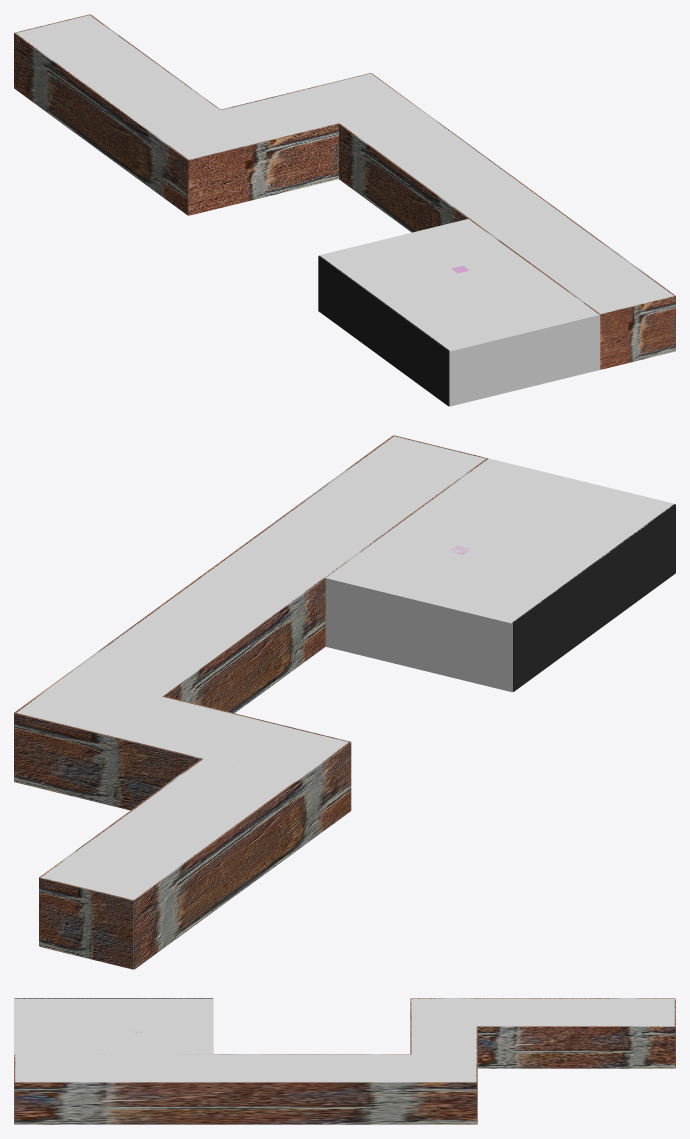
The model's file is AulaPasillo123.fbx.
3 views of the same model, one above another, from view 1: azimuth 30°, elevation 25°; view 2: azimuth 150°, elevation 25°; view 3: azimuth 270°, elevation 25° (orthographic). The views are drawn at different scales.
Parts seen in each view (by area): view 1: Plane.008, Plane.001, Cube.011, Plane.010, Plane.009, Cube.003, Cube.008, Cube.001, Cube.007, Cube.014, Cube.010; view 2: Plane.008, Plane.001, Cube.011, Plane.009, Plane.010, Cube.002, Cube.001, Cube.009, Cube.007, Cube.013, Cube.010; view 3: Cube.010, Plane.008, Plane.001, Cube.012, Plane.010, Plane.009, Cube.011.
Boxes of the visible parts, x1=… form: Plane.008: x1=340, y1=105, x2=673, y2=313; Plane.001: x1=320, y1=219, x2=598, y2=350; Cube.011: x1=14, y1=33, x2=188, y2=215; Plane.010: x1=15, y1=15, x2=219, y2=128; Plane.009: x1=146, y1=73, x2=413, y2=159; Cube.003: x1=449, y1=314, x2=600, y2=406; Cube.008: x1=188, y1=123, x2=339, y2=215; Cube.001: x1=318, y1=255, x2=449, y2=406; Cube.007: x1=339, y1=123, x2=469, y2=232; Cube.014: x1=600, y1=296, x2=675, y2=369; Cube.010: x1=371, y1=73, x2=675, y2=350; Plane.008: x1=69, y1=436, x2=485, y2=696; Plane.001: x1=326, y1=459, x2=673, y2=622; Cube.011: x1=133, y1=742, x2=351, y2=969; Plane.009: x1=17, y1=673, x2=348, y2=781; Plane.010: x1=40, y1=759, x2=294, y2=899; Cube.002: x1=325, y1=577, x2=512, y2=691; Cube.001: x1=512, y1=504, x2=675, y2=691; Cube.009: x1=14, y1=712, x2=202, y2=810; Cube.007: x1=164, y1=577, x2=325, y2=713; Cube.013: x1=39, y1=877, x2=133, y2=969; Cube.010: x1=14, y1=435, x2=393, y2=781; Cube.010: x1=14, y1=1082, x2=476, y2=1124; Plane.008: x1=14, y1=1054, x2=410, y2=1082; Plane.001: x1=14, y1=998, x2=212, y2=1054; Cube.012: x1=477, y1=1026, x2=675, y2=1068; Plane.010: x1=477, y1=998, x2=675, y2=1026; Plane.009: x1=411, y1=998, x2=476, y2=1082; Cube.011: x1=411, y1=998, x2=674, y2=998.
Size of the model in its own units: 3020 by 700 by 10020.
9 materials, 1 textured.
